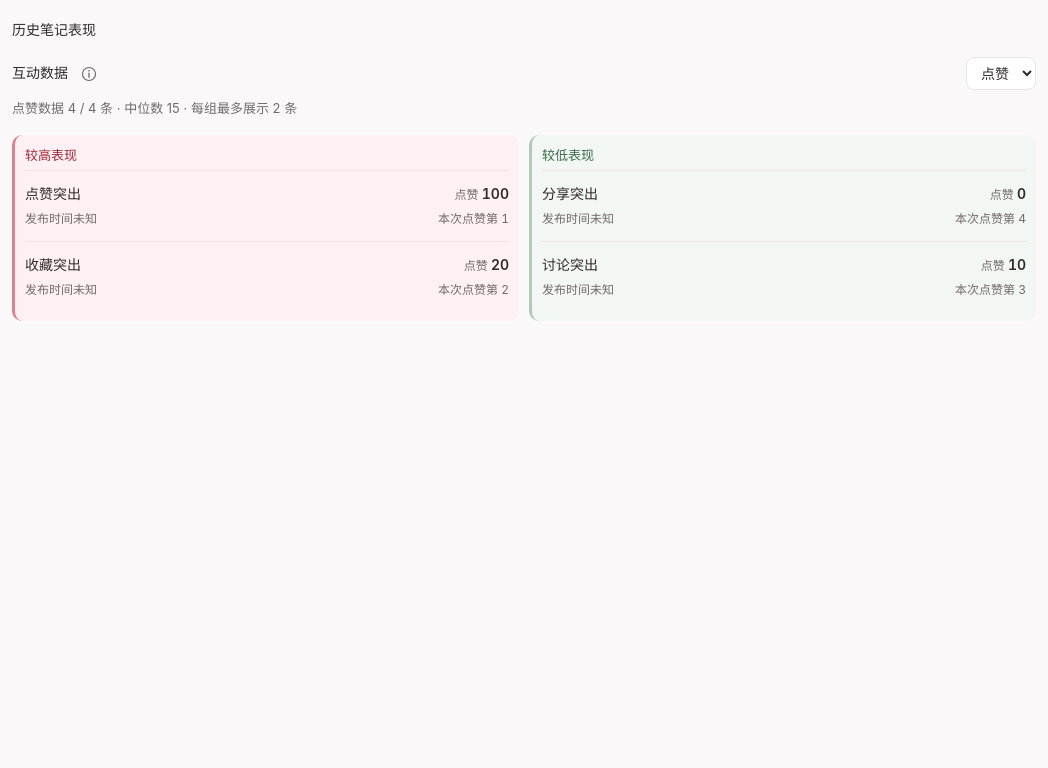
it: switches independent metrics and displays medians, missingness and frozen notes
The width and height of the screenshot is (1048, 768).
expect the message shows "点赞数据 4 / 4 条 · 中位数 15": met, box [12,100,180,116]
Select "收藏" in the dropdown named "比较指标" at coordinates (1001, 74), box [966,57,1036,90]
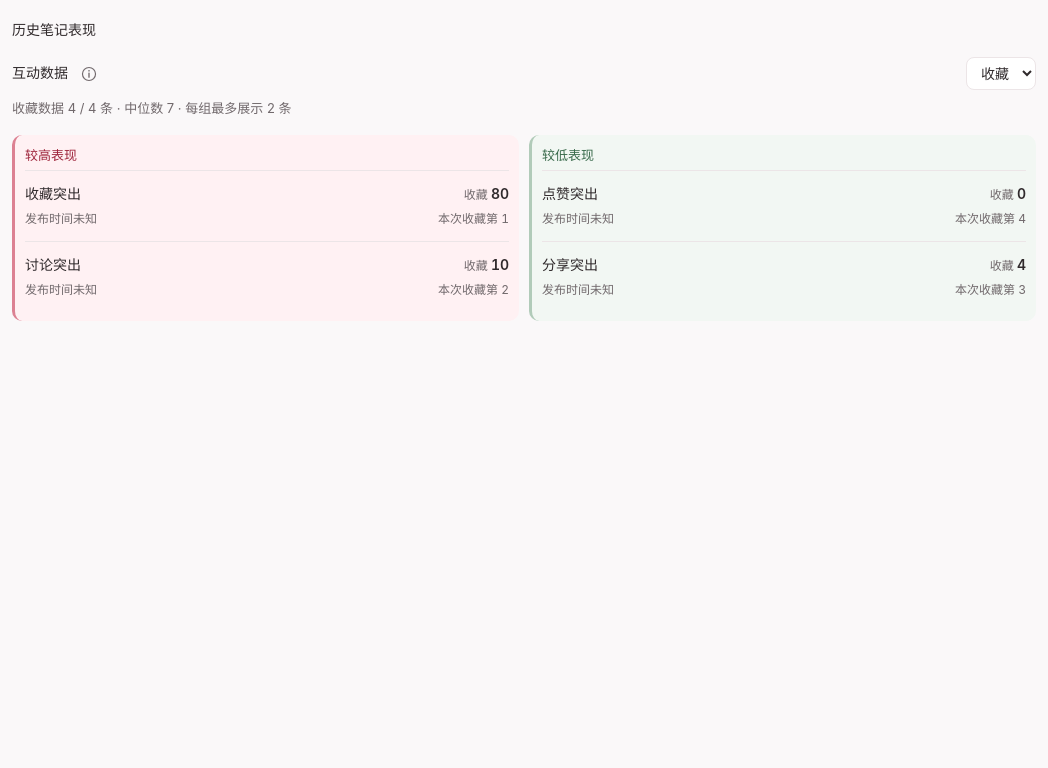
expect the button "收藏突出" is shown: met, box [25,183,81,205]
Select "评论" in the dropdown named "比较指标" at coordinates (1001, 74), box [966,57,1036,90]
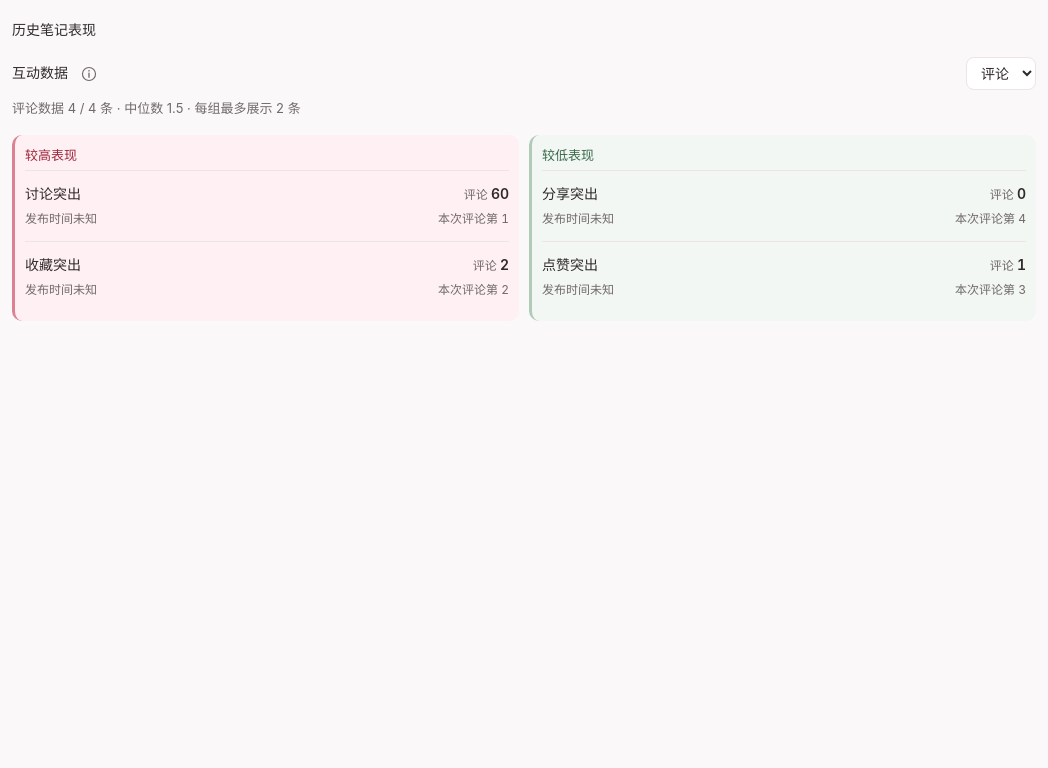
expect the button "讨论突出" is shown: met, box [25,183,81,205]
Select "分享" in the dropdown named "比较指标" at coordinates (1001, 74), box [966,57,1036,90]
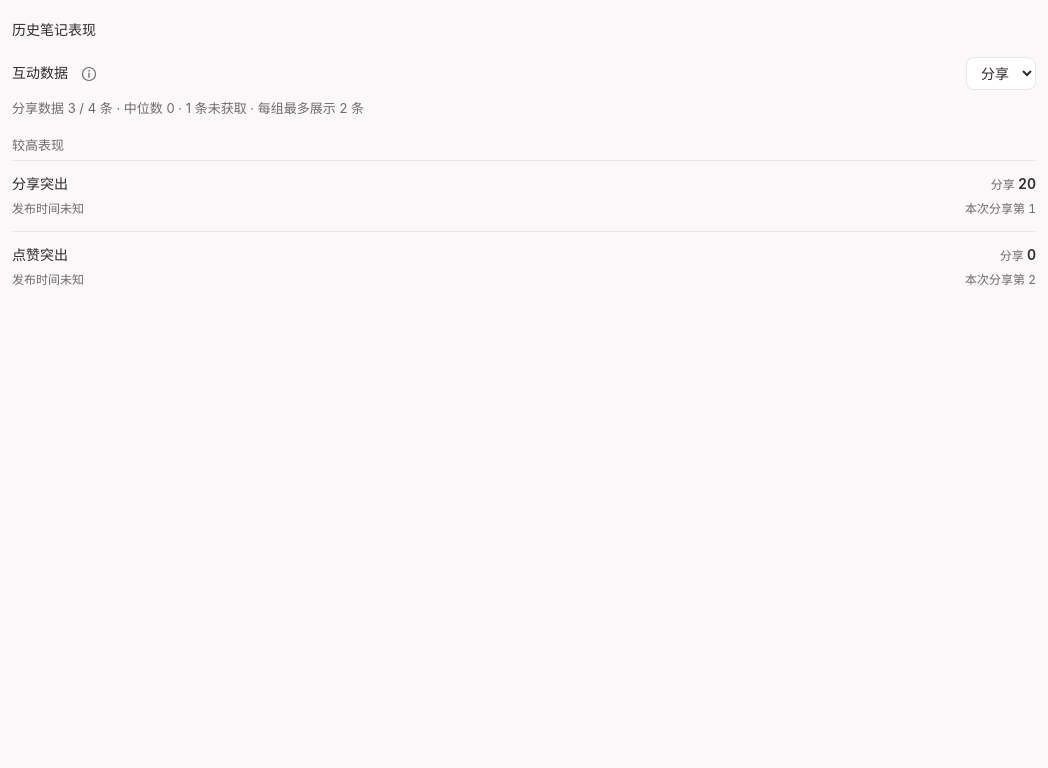
expect the message shows "分享数据 3 / 4 条 · 中位数 0 · 1 条未获取": met, box [12,100,364,116]
Click the button "分享突出" at coordinates (40, 184), box [12,173,68,195]
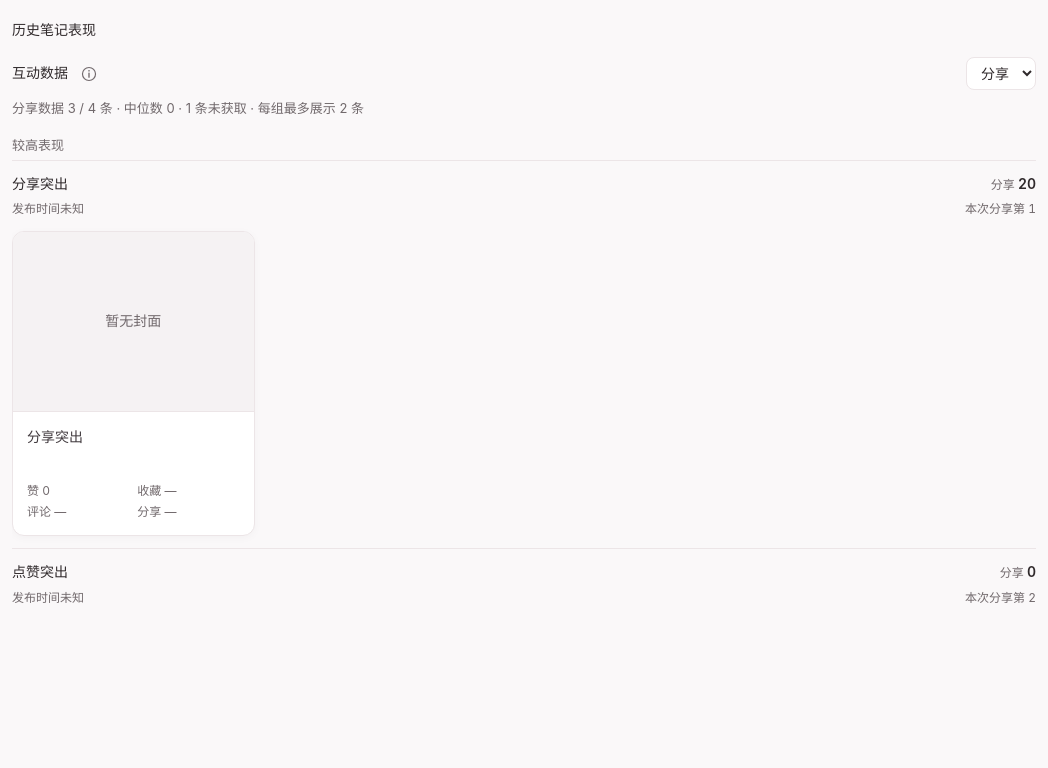
expect the button "暂无封面 分享突出 赞 0 收藏 — 评论 — 分享 —" is shown: met, box [12,231,254,536]
Select "点赞" in the dropdown named "比较指标" at coordinates (1001, 74), box [966,57,1036,90]
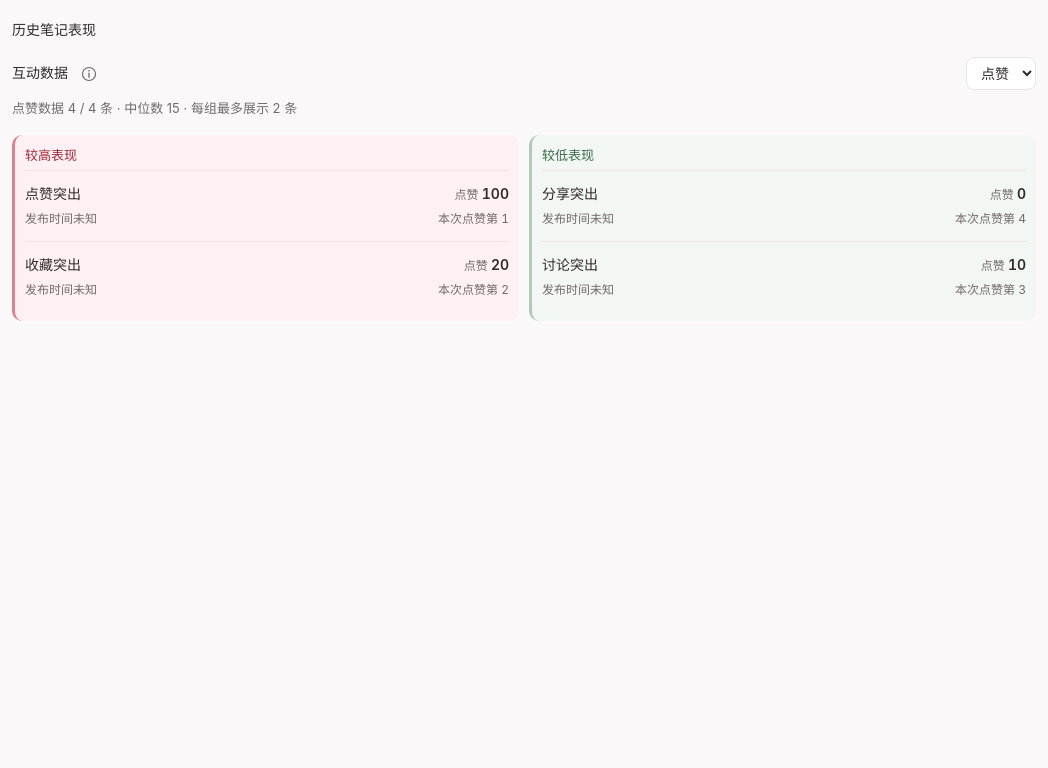
expect the button "分享突出 赞" is gone: met
